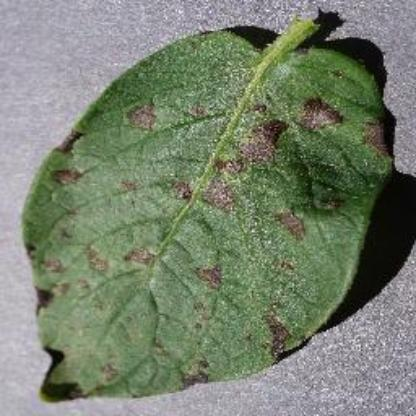Early-Blight: (26, 15, 394, 403)
